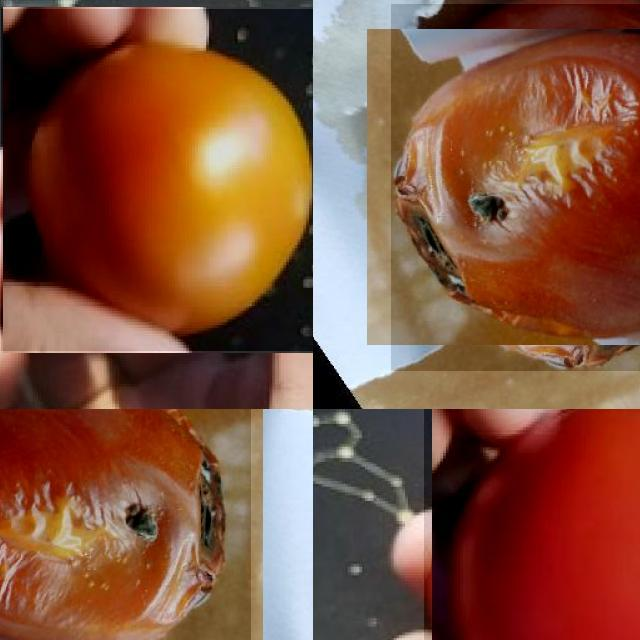Fresh Tomato: (1, 8, 313, 351), (424, 409, 640, 640)
Rotten Tomato: (391, 4, 640, 370), (0, 409, 251, 640)
